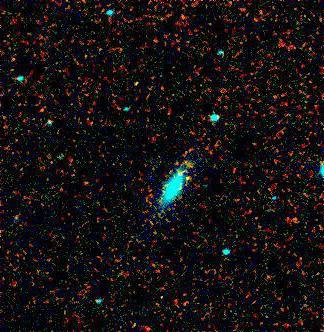star: (174, 163, 204, 193)
